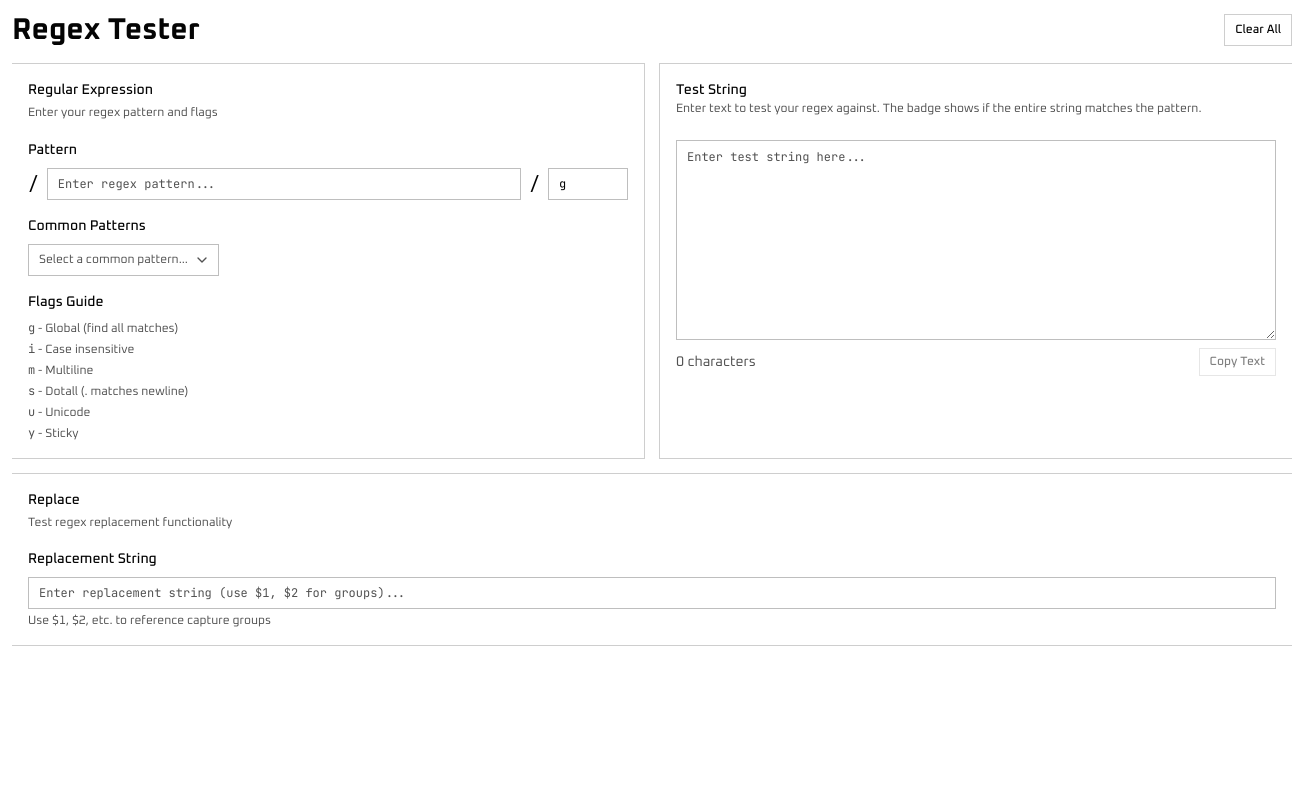
Scenario: RegexPage › shows matches when pattern finds results
# Enter pattern and test string with matches
In the field with placeholder "Enter regex pattern...": (284,184) [47,168,521,200], type "\\d+"
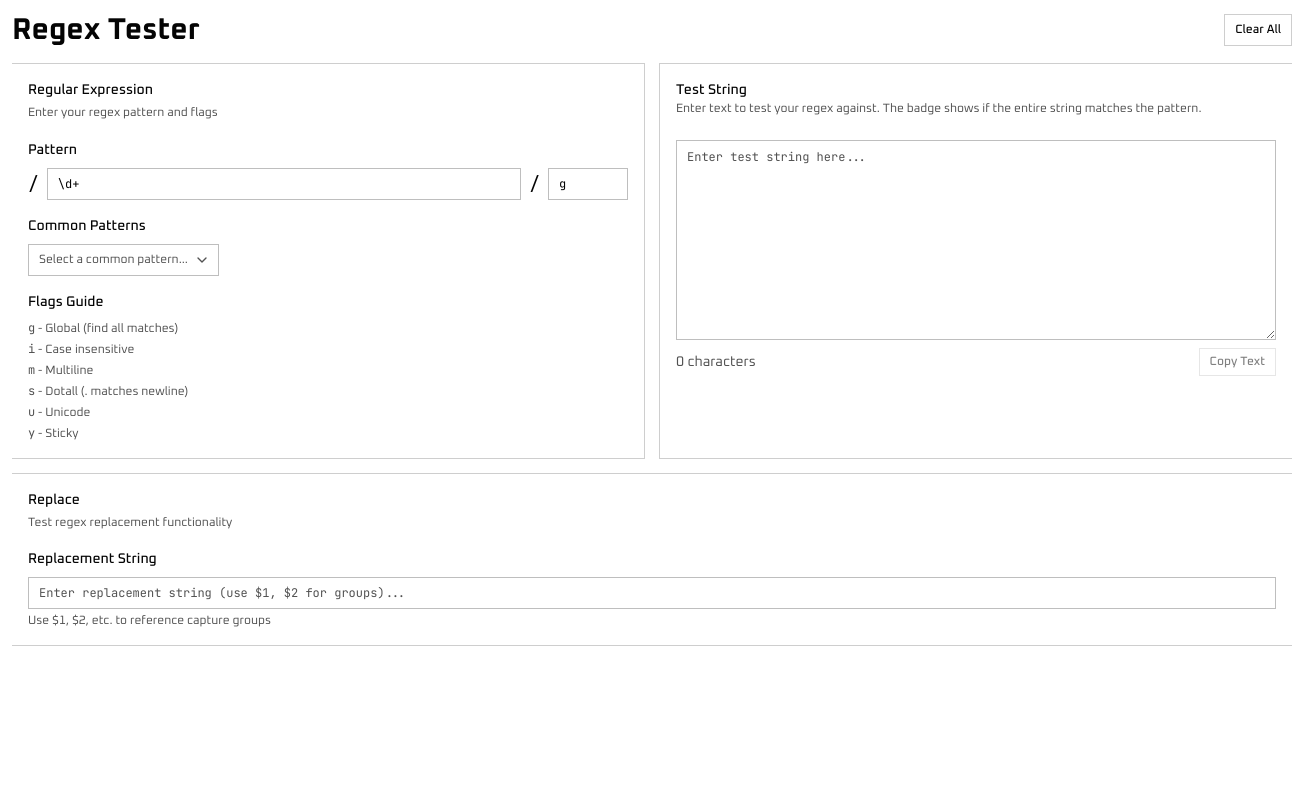
In the text box with placeholder "Enter test string here...": (976,240) [676,140,1276,340], type "Numbers: 123 and 456"
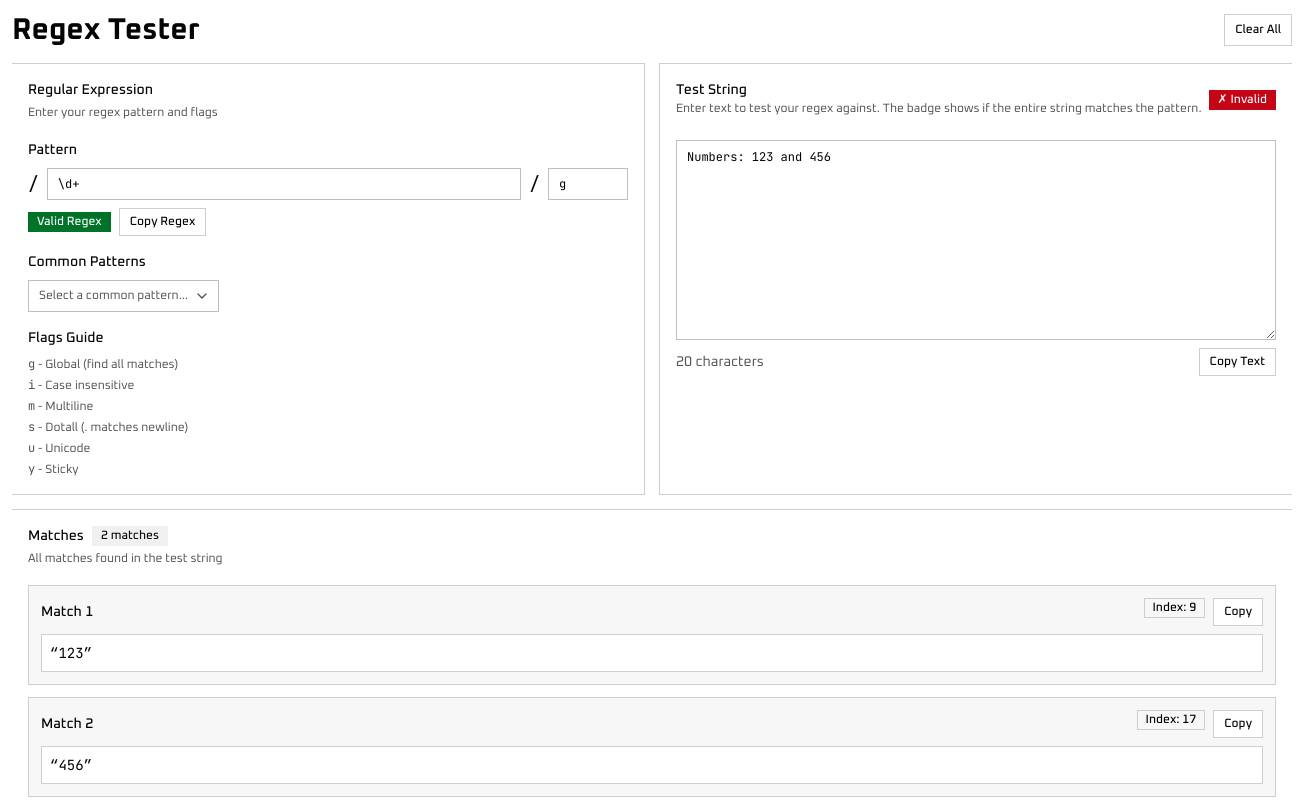
Expected: the text "Matches" is shown, [28,528,84,542]
